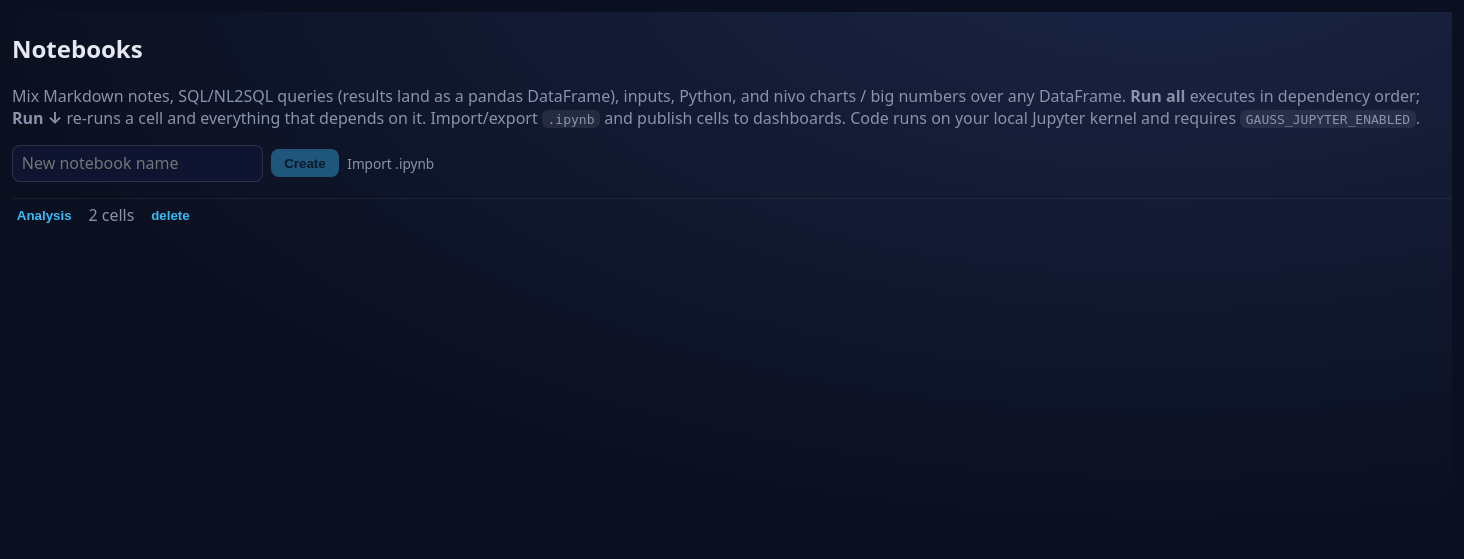
Test case: Notebooks › asks the AI assistant and appends the proposed cell
Click the button "Analysis" at [44, 215], box [12, 204, 76, 226]
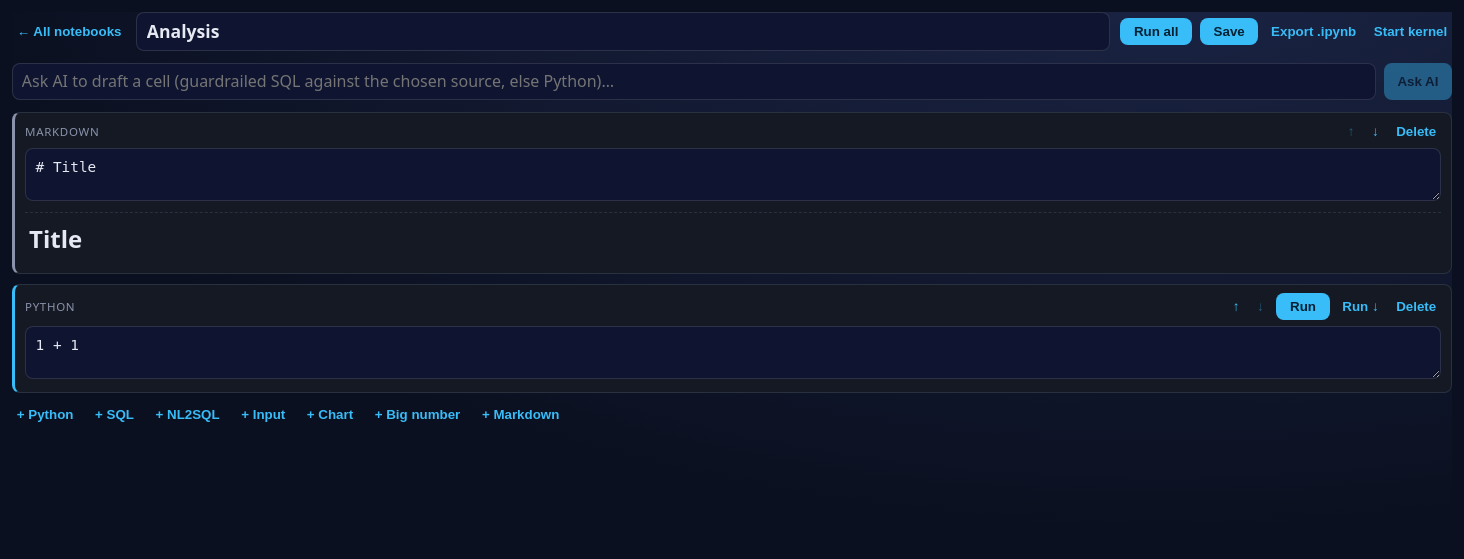
Replace the text in the field labelled "Ask AI" with "summarize revenue" at [694, 81], box [12, 63, 1376, 100]
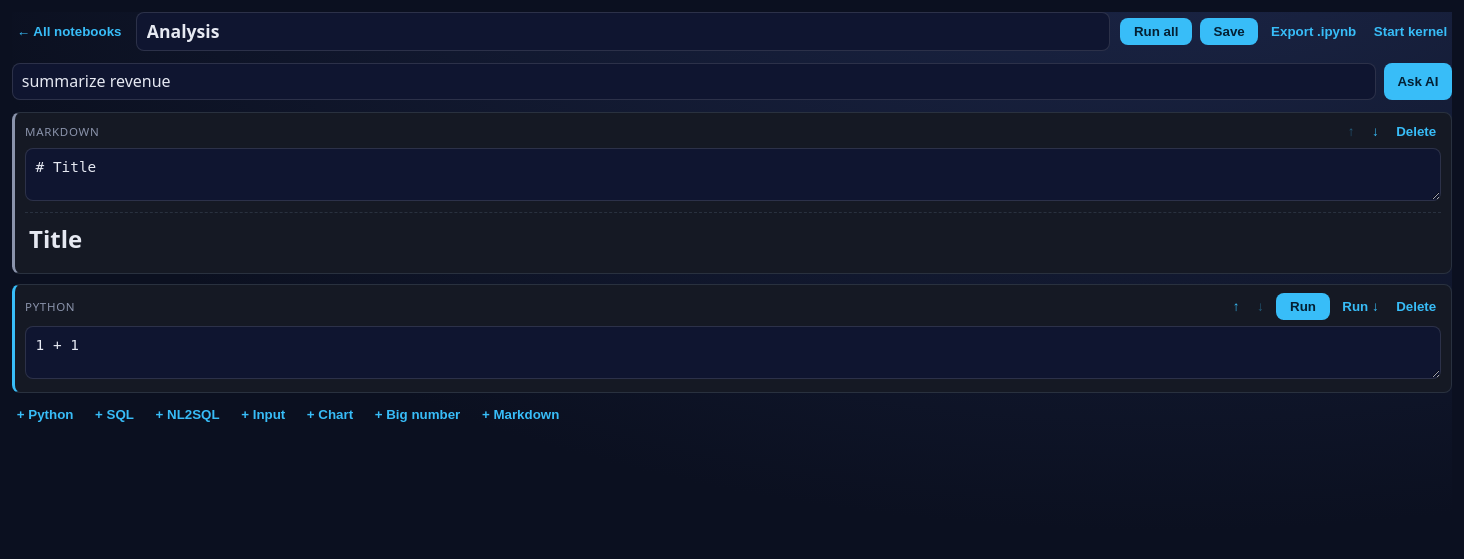
Click the button "Ask AI" at [1418, 81], box [1384, 63, 1452, 100]
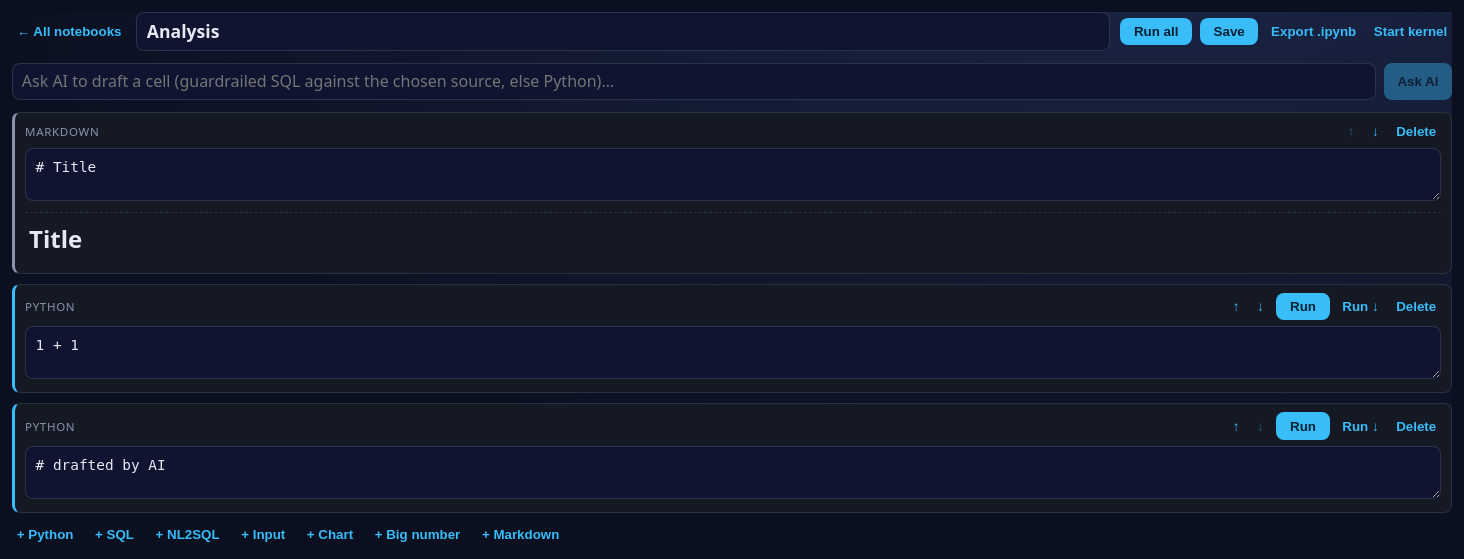
Result: the 3rd text box showing "# drafted by AI" is shown at [25, 446, 1441, 500]
